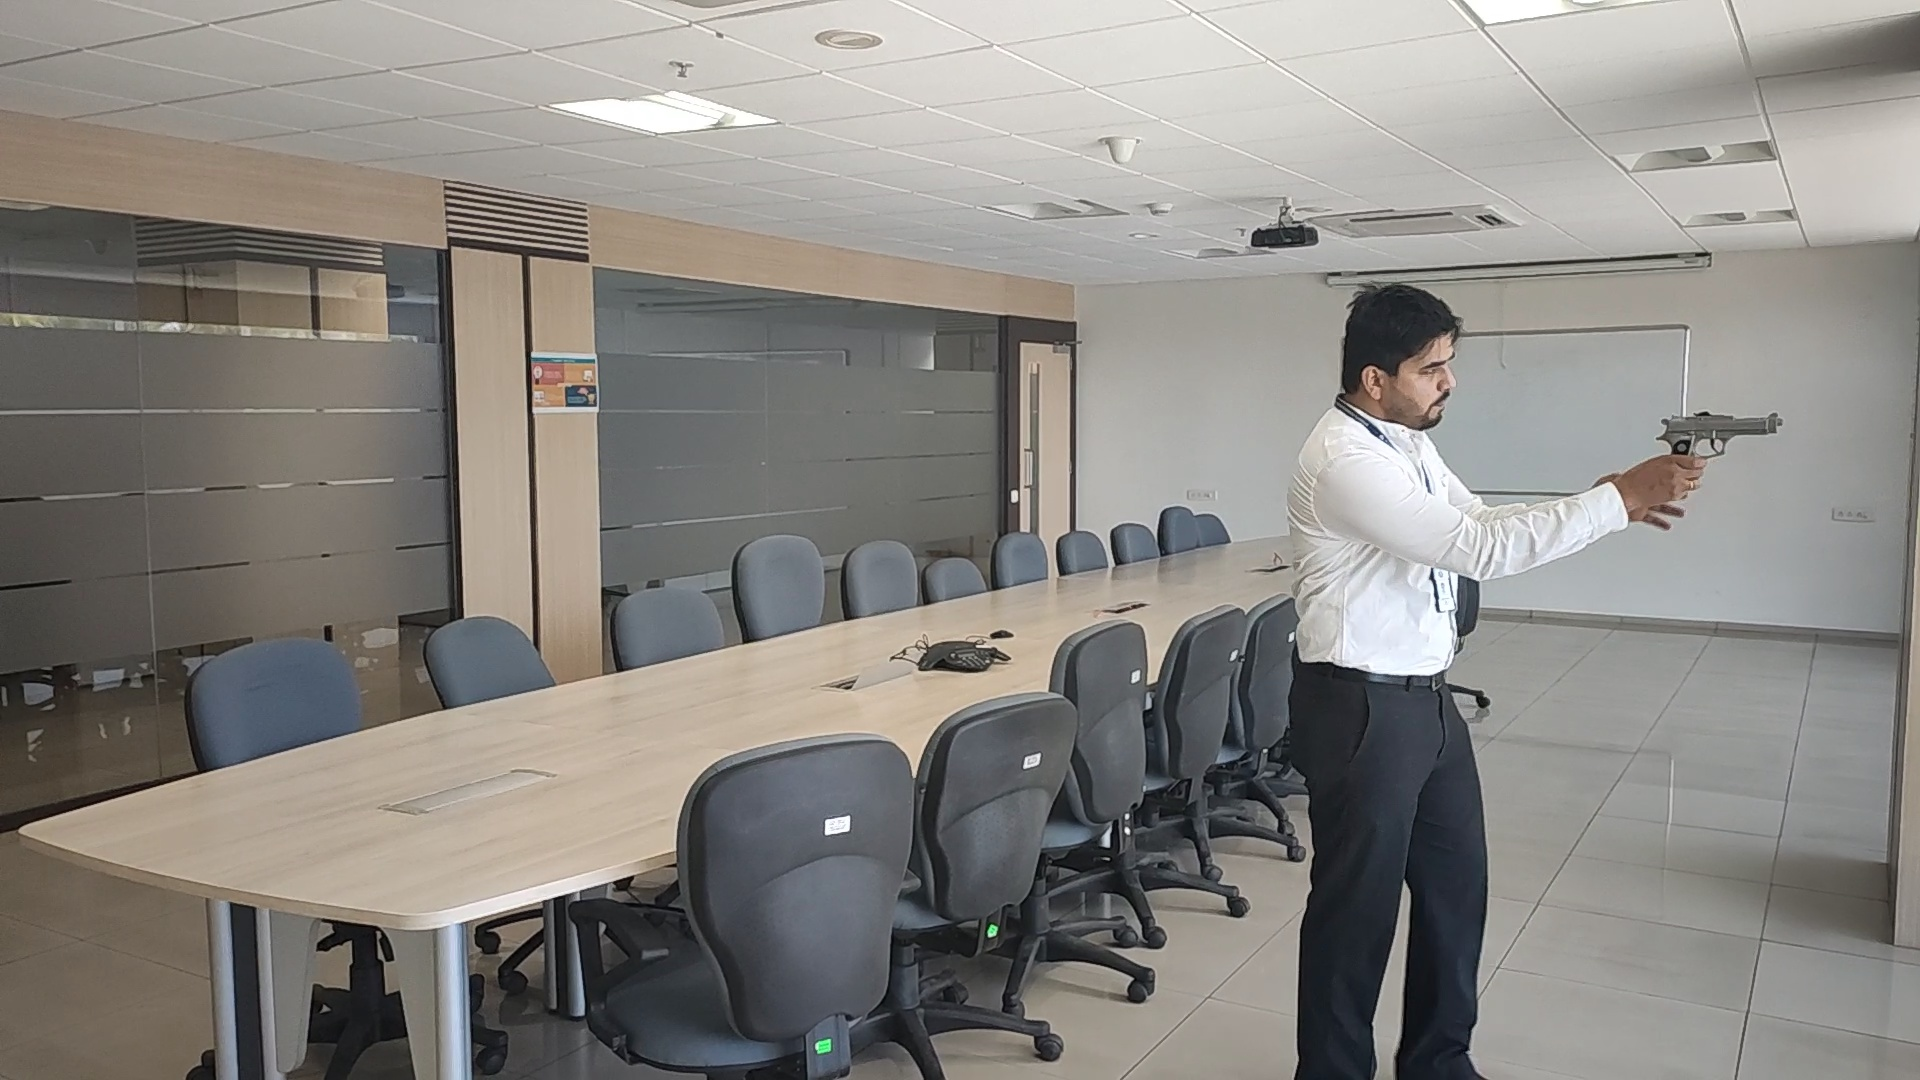gun: (1654, 410, 1784, 455)
